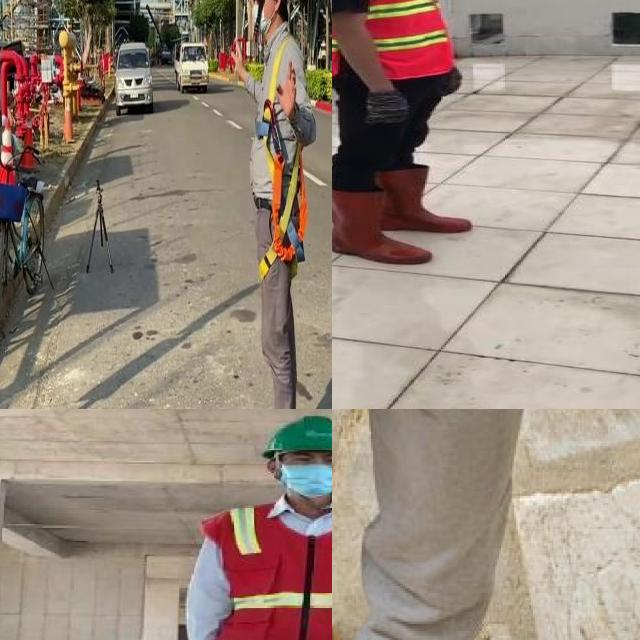Harness: (260, 37, 308, 278)
boots: (332, 182, 435, 266), (382, 165, 472, 235)
face_mask: (274, 452, 332, 493)
hand_glove: (352, 90, 409, 128)
head_helmet: (258, 413, 332, 457)
person: (332, 0, 477, 260), (183, 411, 332, 640)
vest: (191, 501, 332, 640), (332, 0, 457, 77)
